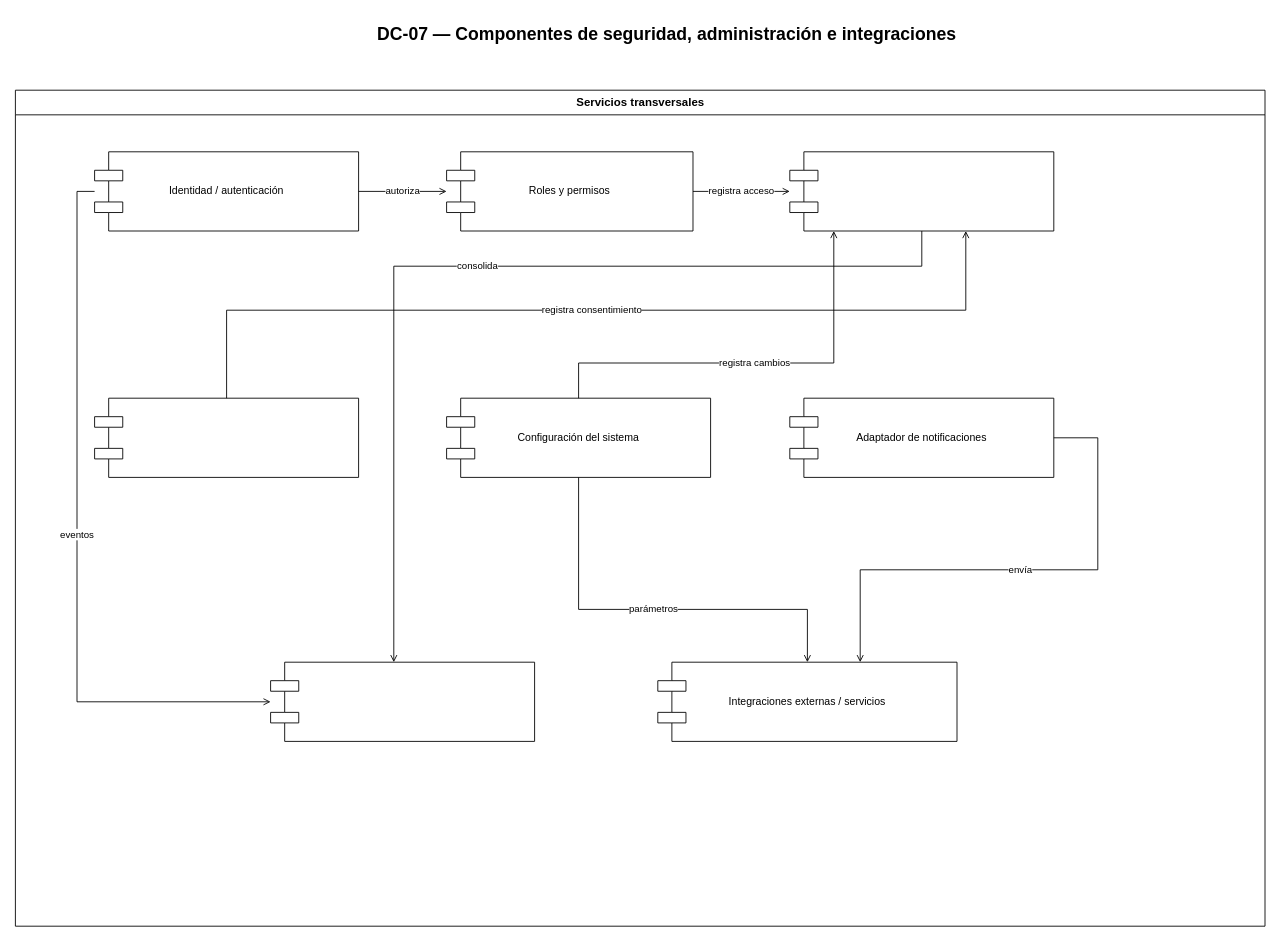
Some shapes in this 1280 by 942 pixel diagram are drawn without their labels. Each missing label, with the box of its shape:
Auditoría y trazabilidad: (789, 151, 1054, 231)
Privacidad y consentimiento: (94, 397, 359, 477)
Registro de eventos: (270, 661, 535, 741)
